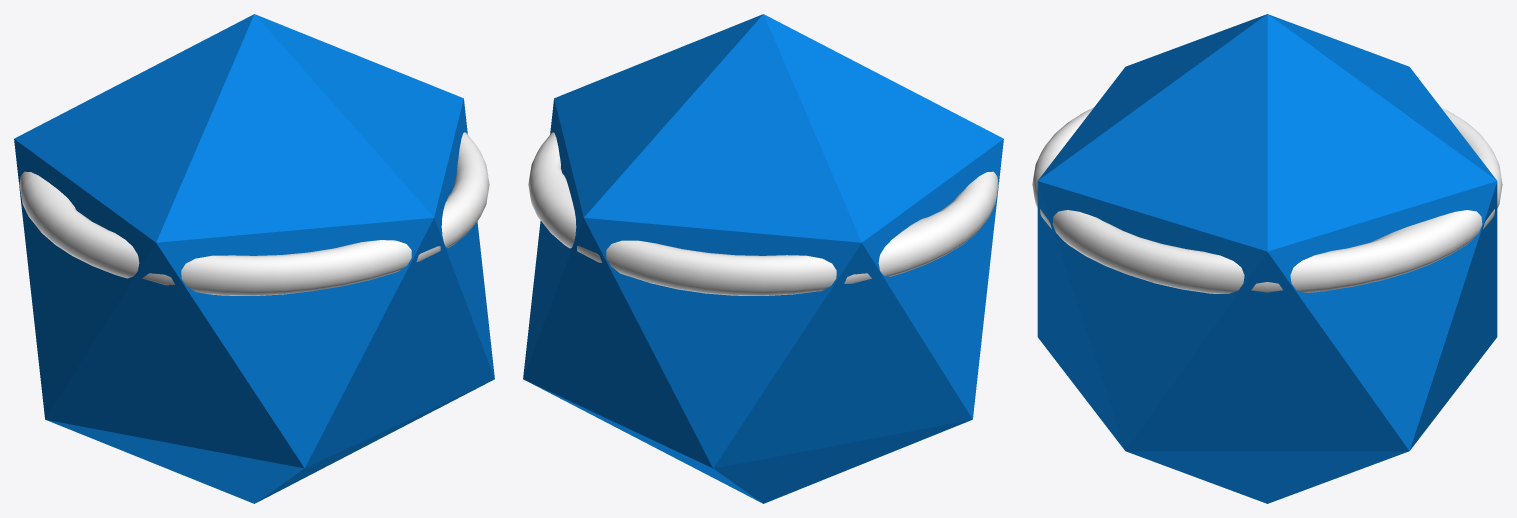
Rendered from Steering wheel.glb.
3 views of the same model, side by side, from view 1: azimuth 30°, elevation 25°; view 2: azimuth 150°, elevation 25°; view 3: azimuth 270°, elevation 25° (orthographic).
Visible parts, largest first — view 1: Joint.032, Steering wheel; view 2: Joint.032, Steering wheel; view 3: Joint.032, Steering wheel.
Boxes of the visible parts, x1,y1,x2,y2 form: Joint.032: (14, 14, 494, 503); Steering wheel: (19, 132, 489, 295); Joint.032: (523, 14, 1003, 503); Steering wheel: (528, 132, 998, 295); Joint.032: (1037, 14, 1497, 503); Steering wheel: (1032, 107, 1502, 293).
Bounding box in the file's own units: 0.2726 × 0.3048 × 0.2651.
